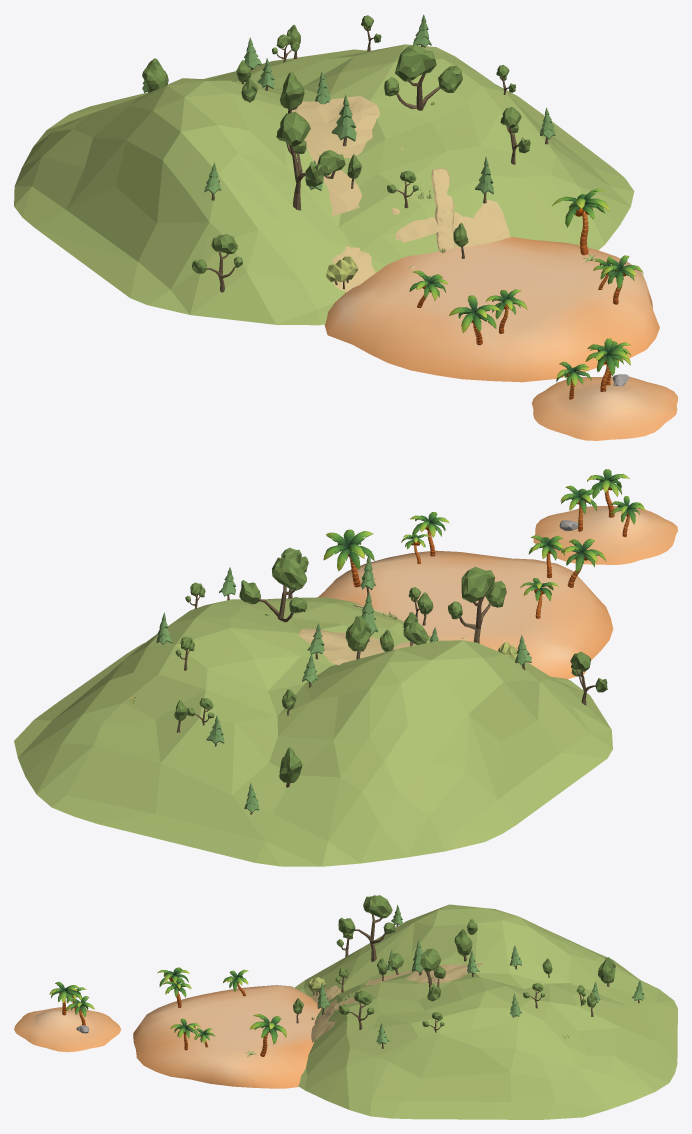
Rendered from beach.glb.
3 renders of one model, top to bottom at view 1: azimuth 30°, elevation 25°; view 2: azimuth 150°, elevation 25°; view 3: azimuth 270°, elevation 25°, orthographic. The views are drawn at different scales.
Visible parts, largest first — view 1: rpgpp_lt_hill_small_02, SM_LargeIsland, SM_Island, rpgpp_lt_terrain_sand_01__3_, rpgpp_lt_tree_02, rpgpp_lt_tree_02_1, rpgpp_lt_terrain_sand_01__1_, SM_PalmTree__4_, SM_PalmTree__6_, rpgpp_lt_tree_02__4__1, rpgpp_lt_terrain_sand_01, SM_PalmTree (+10 smaller); view 2: rpgpp_lt_hill_small_02, SM_LargeIsland, SM_Island, rpgpp_lt_tree_02_1, rpgpp_lt_tree_02, rpgpp_lt_terrain_sand_01__3_, SM_PalmTree__4_, SM_PalmTree__6_, SM_PalmTree, rpgpp_lt_tree_01__4_, rpgpp_lt_tree_02__4__1, SM_PalmTree__3_ (+3 smaller); view 3: rpgpp_lt_hill_small_02, SM_LargeIsland, SM_Island, rpgpp_lt_tree_02_1, rpgpp_lt_terrain_sand_01__3_, rpgpp_lt_tree_02, SM_PalmTree__4_, rpgpp_lt_tree_02__4_, SM_PalmTree, rpgpp_lt_tree_01__4__1, SM_PalmTree__3_, rpgpp_lt_tree_01__4_ (+1 smaller).
Part boxes in pixels (bbox=[...]): rpgpp_lt_hill_small_02: bbox=[14, 44, 634, 325]; SM_LargeIsland: bbox=[324, 236, 659, 382]; SM_Island: bbox=[531, 376, 677, 440]; rpgpp_lt_terrain_sand_01__3_: bbox=[292, 96, 403, 216]; rpgpp_lt_tree_02: bbox=[384, 44, 462, 110]; rpgpp_lt_tree_02_1: bbox=[276, 112, 324, 210]; rpgpp_lt_terrain_sand_01__1_: bbox=[453, 199, 510, 247]; SM_PalmTree__4_: bbox=[552, 188, 609, 255]; SM_PalmTree__6_: bbox=[449, 295, 500, 345]; rpgpp_lt_tree_02__4__1: bbox=[192, 234, 242, 292]; rpgpp_lt_terrain_sand_01: bbox=[332, 246, 375, 292]; SM_PalmTree: bbox=[585, 338, 630, 391]; rpgpp_lt_hill_small_02: bbox=[14, 597, 612, 866]; SM_LargeIsland: bbox=[318, 550, 613, 679]; SM_Island: bbox=[533, 506, 677, 565]; rpgpp_lt_tree_02_1: bbox=[448, 566, 506, 643]; rpgpp_lt_tree_02: bbox=[239, 557, 307, 622]; rpgpp_lt_terrain_sand_01__3_: bbox=[298, 622, 416, 665]; SM_PalmTree__4_: bbox=[323, 529, 374, 587]; SM_PalmTree__6_: bbox=[561, 538, 606, 587]; SM_PalmTree: bbox=[587, 469, 629, 517]; rpgpp_lt_tree_01__4_: bbox=[345, 616, 371, 659]; rpgpp_lt_tree_02__4__1: bbox=[570, 651, 607, 705]; SM_PalmTree__3_: bbox=[410, 512, 449, 556]; rpgpp_lt_hill_small_02: bbox=[294, 904, 677, 1119]; SM_LargeIsland: bbox=[133, 985, 321, 1088]; SM_Island: bbox=[14, 1007, 121, 1052]; rpgpp_lt_tree_02_1: bbox=[338, 895, 395, 961]; rpgpp_lt_terrain_sand_01__3_: bbox=[366, 963, 482, 990]; rpgpp_lt_tree_02: bbox=[420, 948, 445, 1001]; SM_PalmTree__4_: bbox=[249, 1014, 286, 1056]; rpgpp_lt_tree_02__4_: bbox=[339, 991, 373, 1029]; SM_PalmTree: bbox=[49, 981, 80, 1015]; rpgpp_lt_tree_01__4__1: bbox=[598, 957, 615, 986]; SM_PalmTree__3_: bbox=[170, 1018, 200, 1050]; rpgpp_lt_tree_01__4_: bbox=[454, 929, 472, 961].
Bounding box in the file's own units: 5.68 × 1.72 × 9.51.
2 materials, 2 textured.
